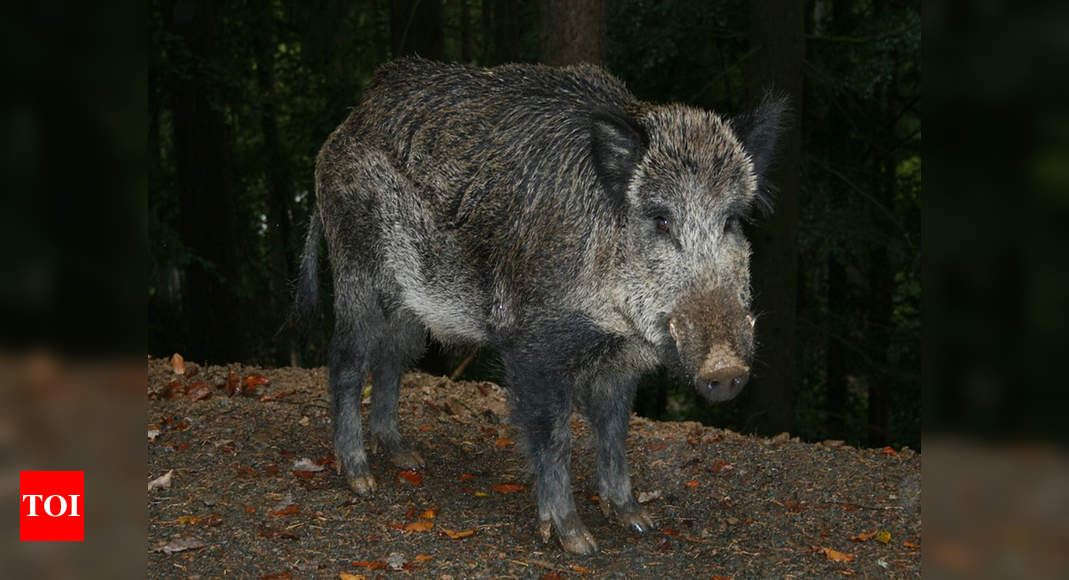wild boar: (288, 46, 789, 553)
